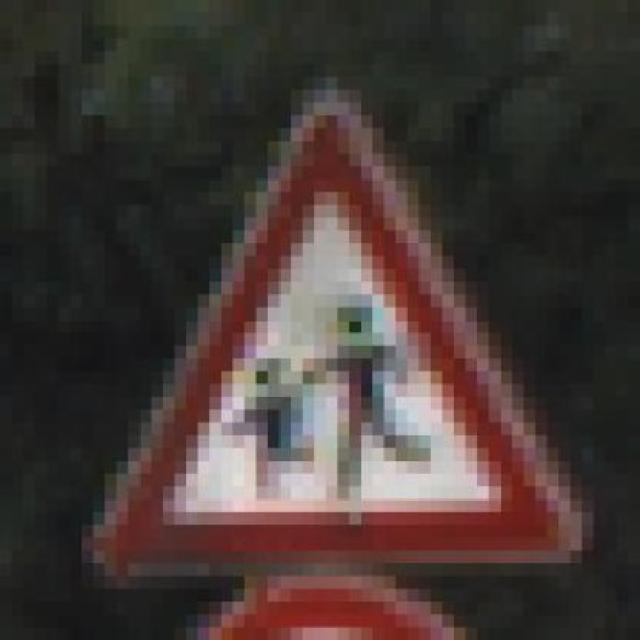Beware of children: (68, 81, 603, 582)
